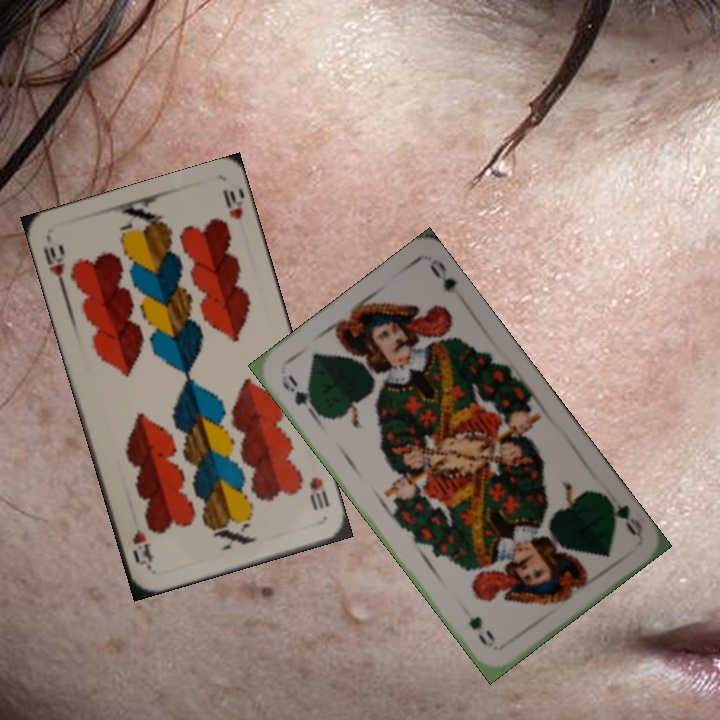GO: (598, 490, 646, 539), (277, 370, 321, 421)
H10: (39, 241, 69, 292), (305, 473, 332, 513)
